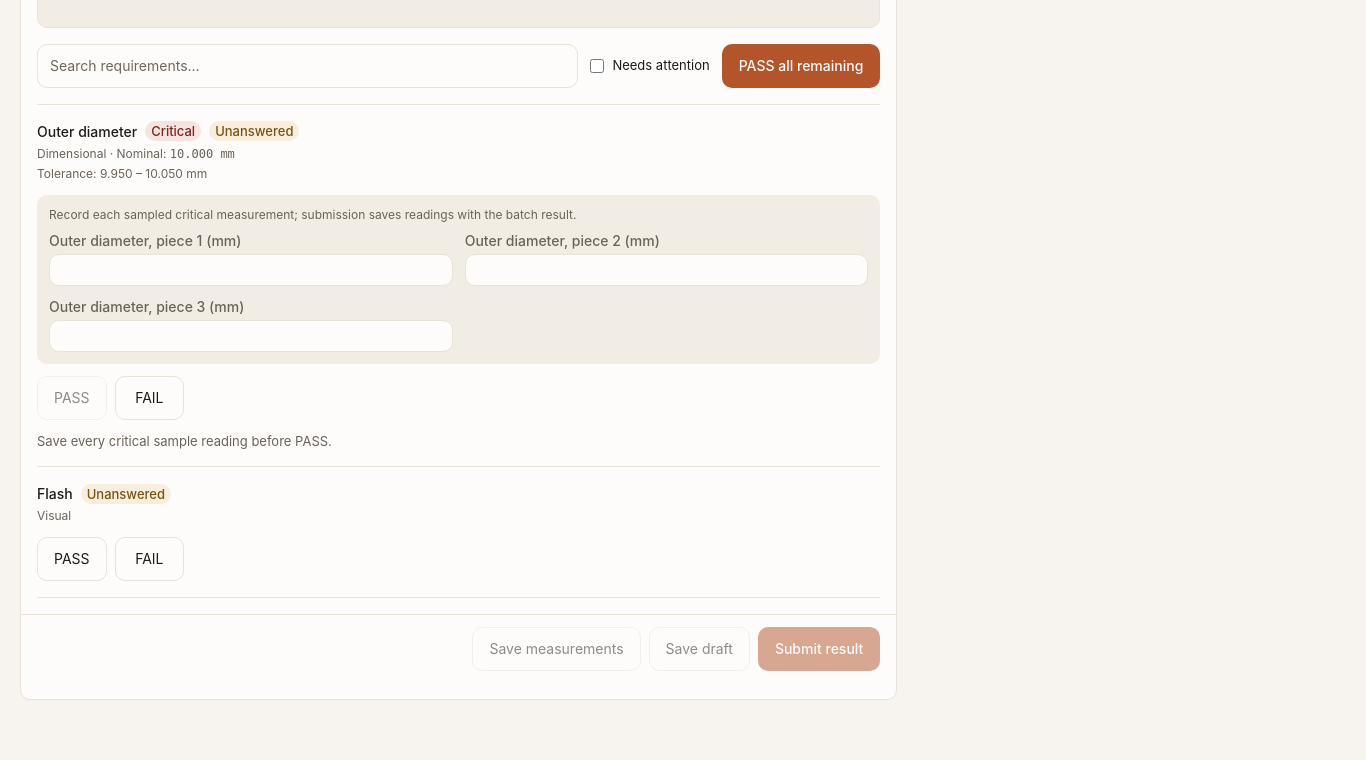
it: InspectionDetailPage › shows critical sample measurements alongside checklist decisions for incoming
(page scrolled)
Expected: the number of buttons "PASS" is 2, [37,376,106,420]; [37,537,106,581]
Expected: the button "Submit result" is disabled, [758,627,880,671]
Click the button with aria-label "FAIL Outer diameter".
click(149, 398)  # box [114,376,184,420]
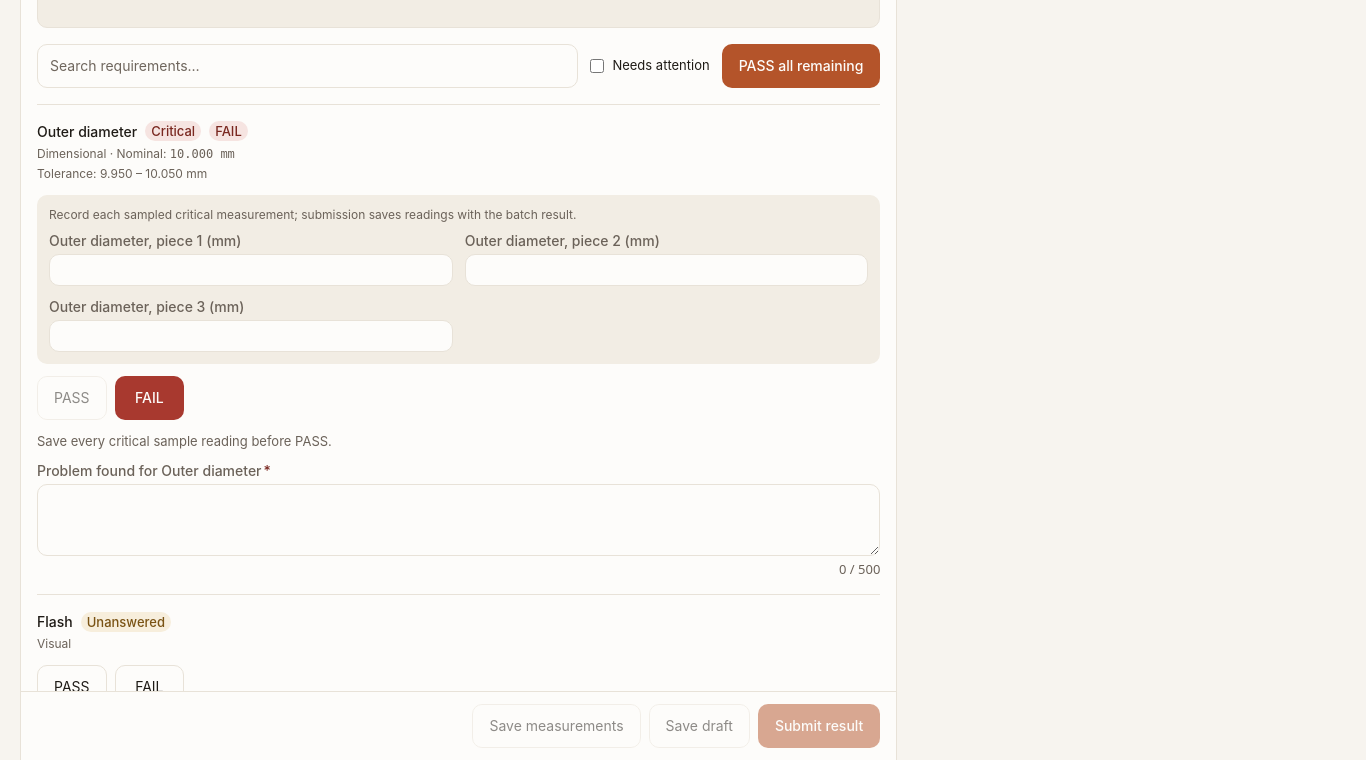
Type "Oversized part" into the text box labelled "Problem found for Outer diameter".
click(459, 520); type("Oversized part")  # box [37,484,880,556]
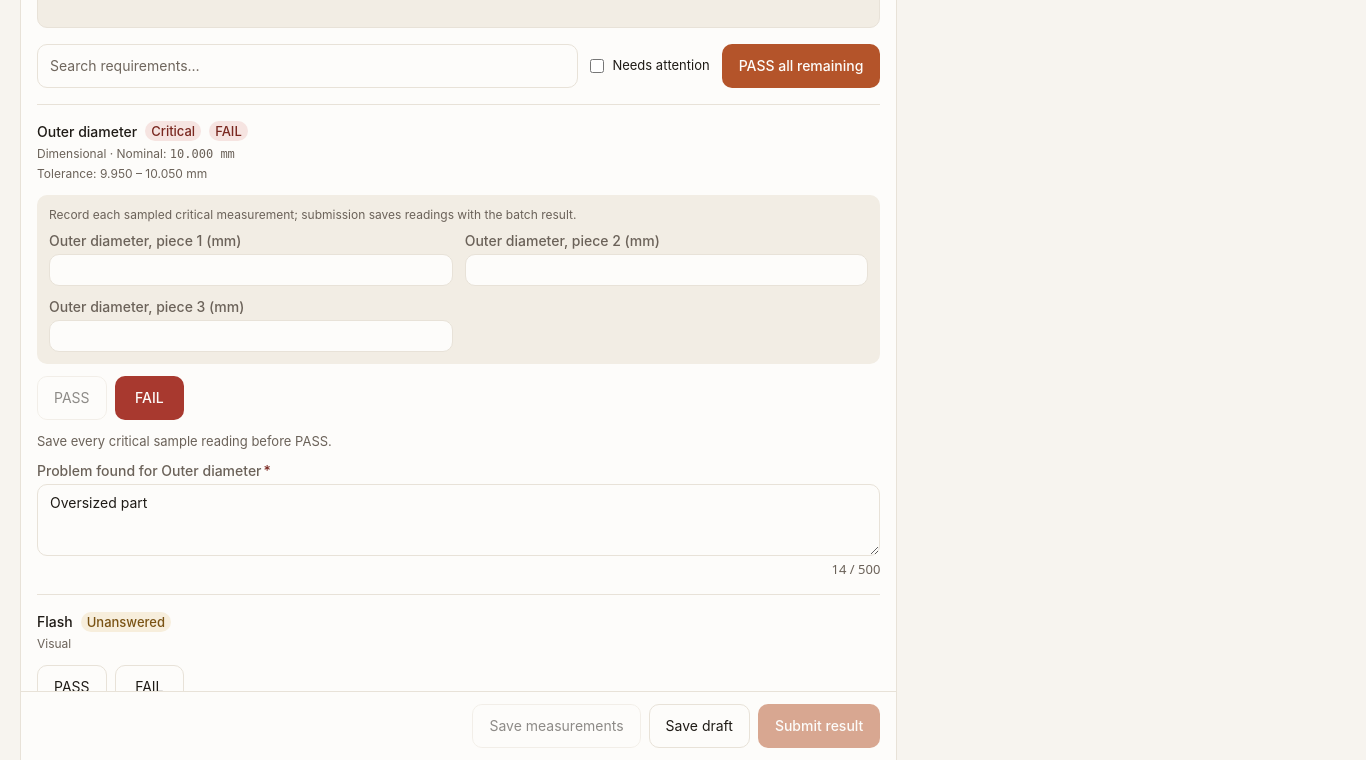
Click the button with aria-label "PASS Flash".
click(72, 687)  # box [37,665,106,709]
(page scrolled)
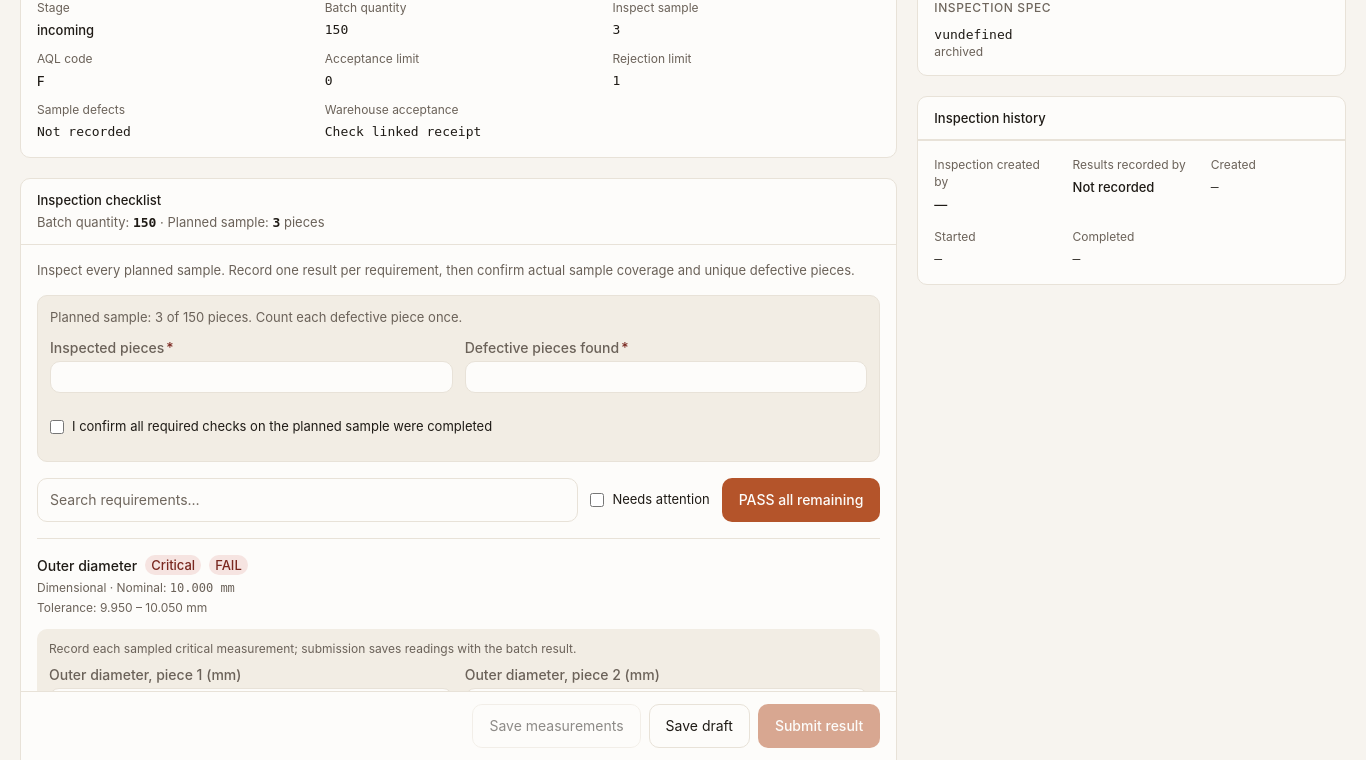
Expected: the button "Submit result" is disabled, [758,704,880,748]
Type "3" into the number field labelled "Inspected pieces".
click(251, 377); type("3")  # box [51,362,452,392]
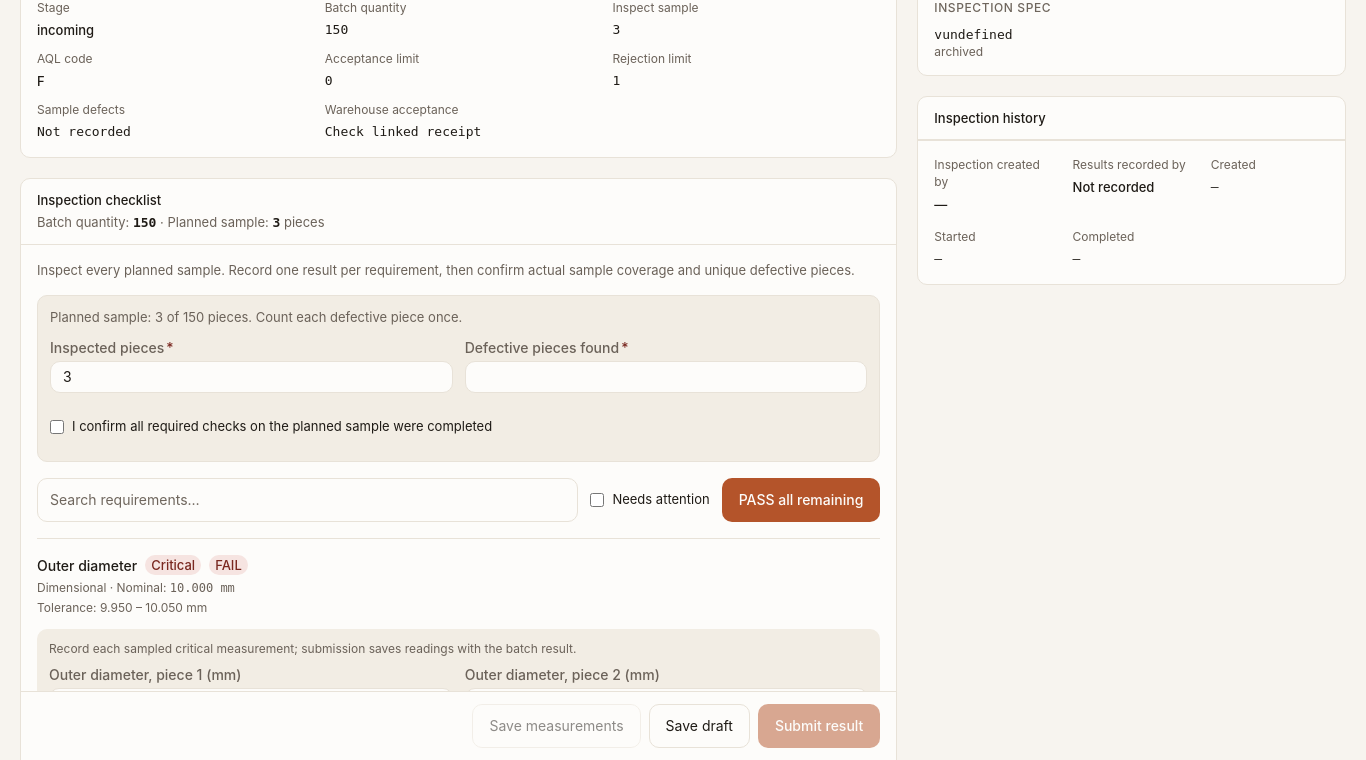
Type "1" into the number field labelled "Defective pieces found".
click(666, 377); type("1")  # box [466,362,866,392]
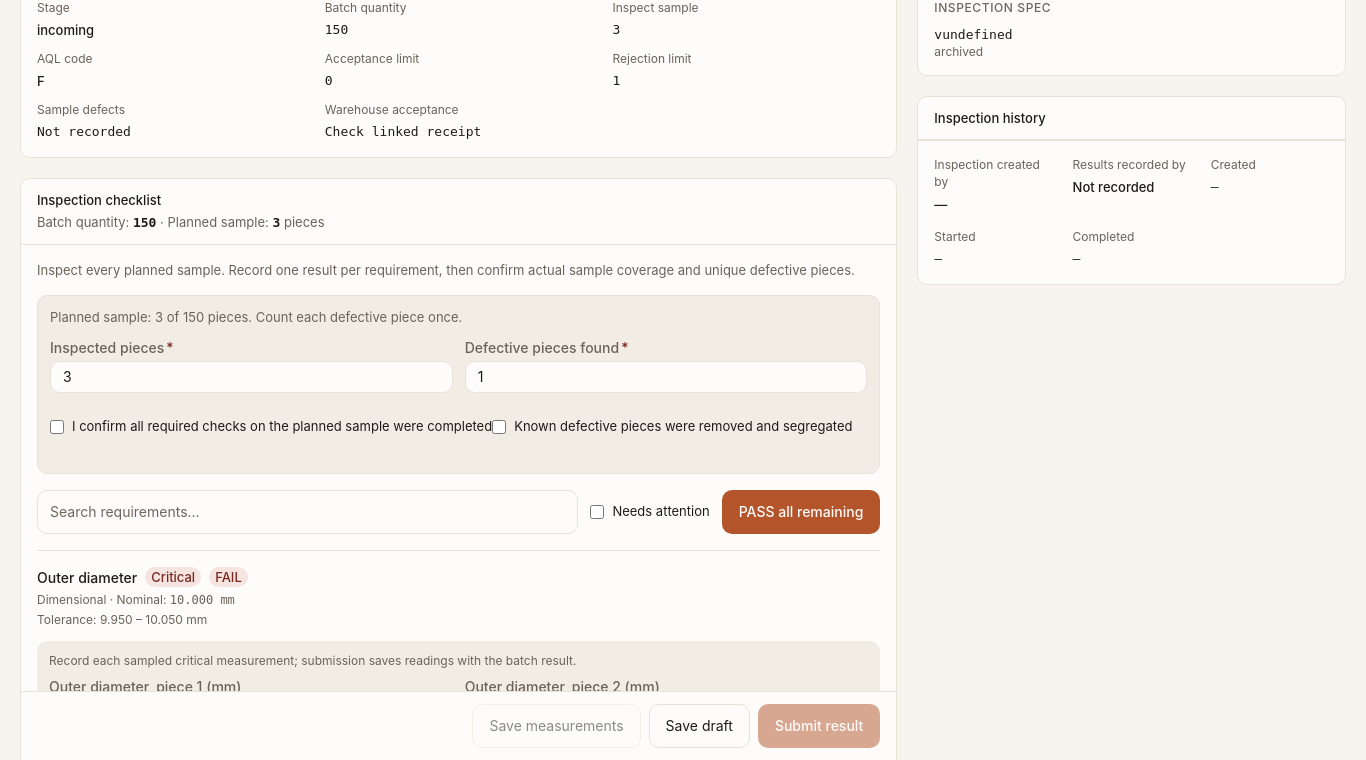
Click the checkbox labelled "I confirm all required checks on the planned sample were completed".
click(57, 427)  # box [50,420,64,434]
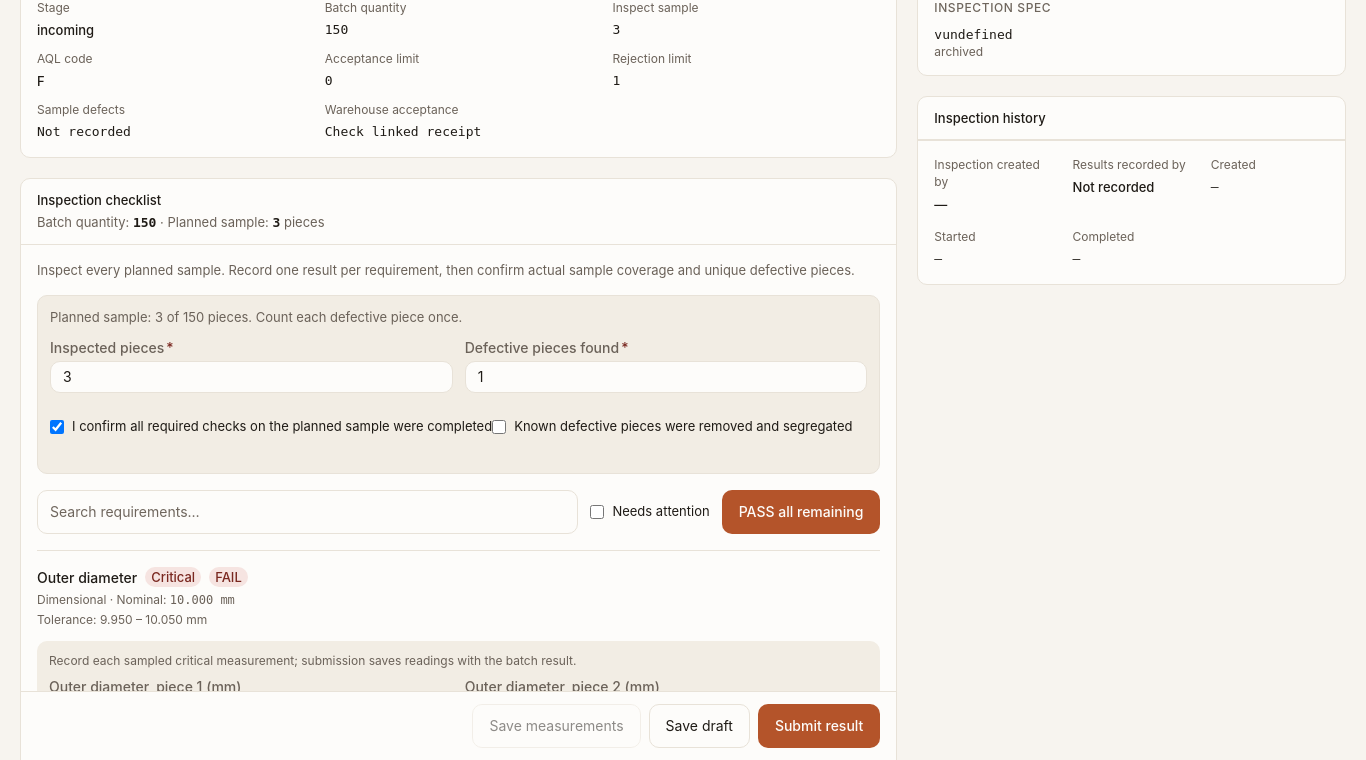
Expected: the button "Submit result" is enabled, [758,704,880,748]
